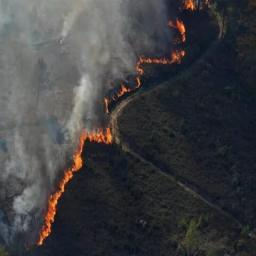Heavy smoke: (1, 3, 166, 228)
Medium fire: (36, 128, 114, 245), (103, 18, 194, 115)
Small fire: (183, 0, 199, 11)
